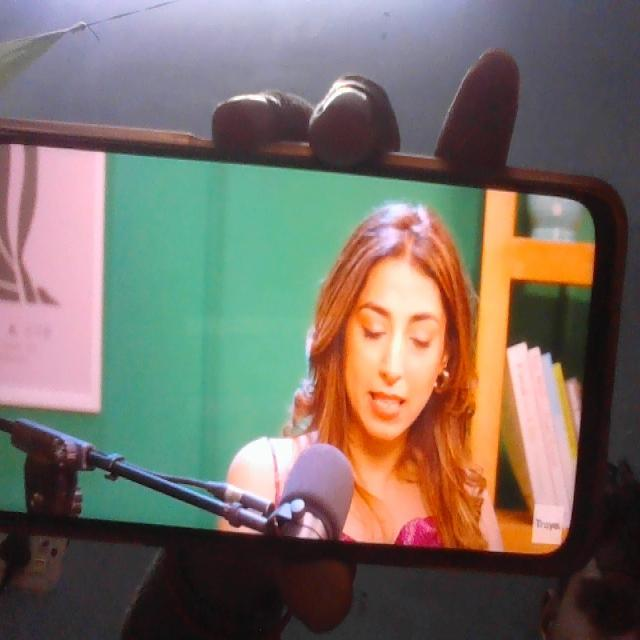fake: (327, 222, 445, 446)
